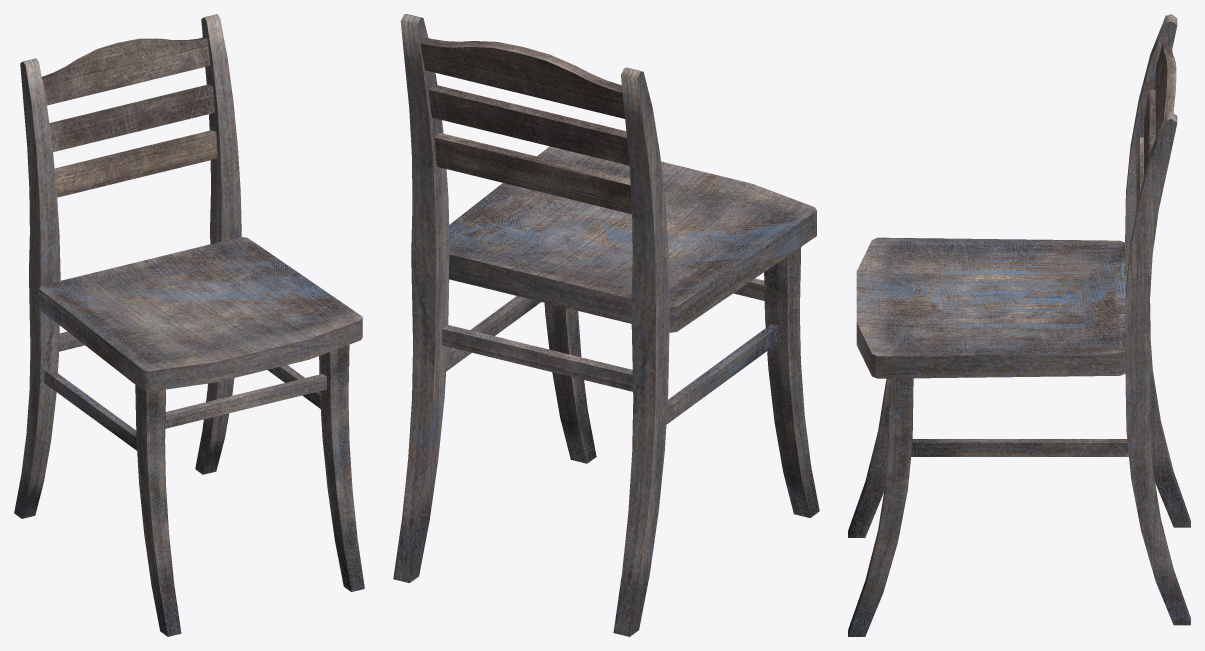
Rendered from cadeira_enfermaria.dae.
3 renders of one model, left to right at view 1: azimuth 30°, elevation 25°; view 2: azimuth 150°, elevation 25°; view 3: azimuth 270°, elevation 25°, orthographic. The views are drawn at different scales.
Visible parts, largest first — view 1: stul (×8); view 2: stul (×8); view 3: stul (×5).
Boxes of the visible parts, bbox=[...] form: stul (×8): bbox=[14, 14, 364, 636]; stul (×8): bbox=[393, 14, 819, 636]; stul (×5): bbox=[848, 14, 1190, 636].
Bounding box in the file's own units: 19.3 × 23.63 × 39.35.
